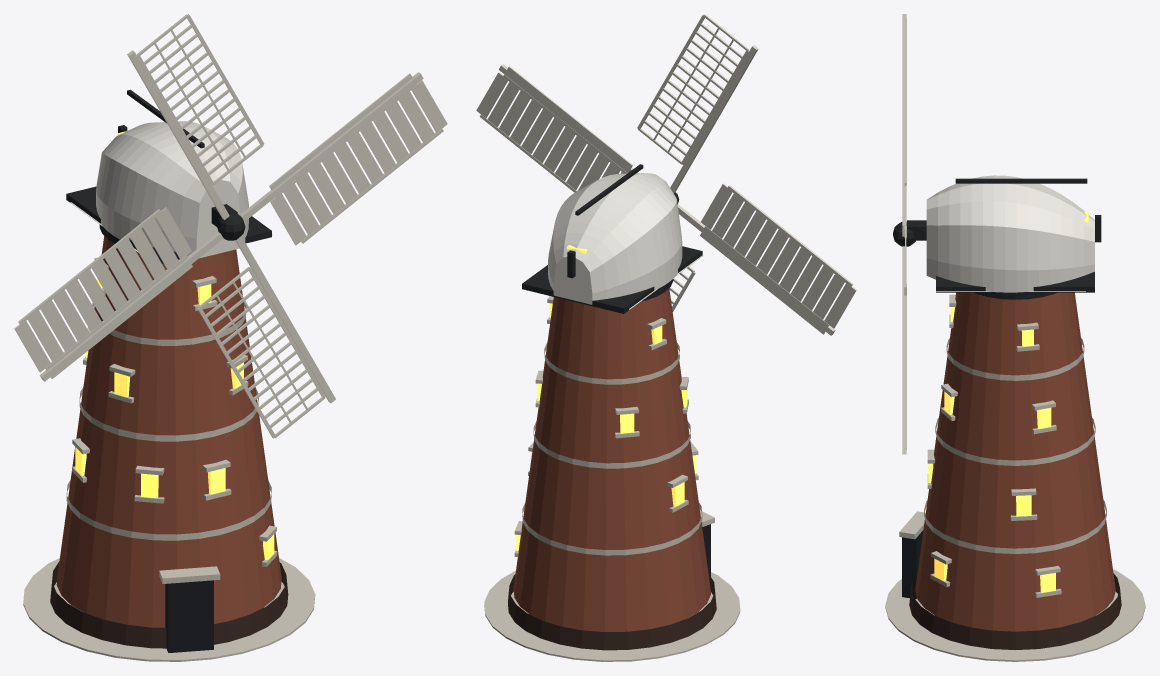
File: windmill.glb
3 views of the same model, side by side, from view 1: azimuth 30°, elevation 25°; view 2: azimuth 150°, elevation 25°; view 3: azimuth 270°, elevation 25° (orthographic). The views are drawn at different scales.
Visible parts, largest first — view 1: Brick, Timber, Stone, CapWhite, BrickDark, Door, Iron, Emit_Window; view 2: Brick, Timber, CapWhite, Stone, BrickDark, Iron, Emit_Window; view 3: Brick, CapWhite, Stone, BrickDark, Iron, Timber, Emit_Window, Door.
Boxes of the visible parts, bbox=[...] form: Brick: bbox=[56, 236, 281, 627]; Timber: bbox=[14, 14, 447, 438]; Stone: bbox=[23, 257, 315, 661]; CapWhite: bbox=[70, 121, 272, 258]; BrickDark: bbox=[50, 561, 288, 648]; Door: bbox=[165, 580, 213, 652]; Iron: bbox=[66, 89, 271, 263]; Emit_Window: bbox=[75, 131, 274, 559]; Brick: bbox=[513, 288, 710, 631]; Timber: bbox=[476, 14, 856, 335]; CapWhite: bbox=[548, 173, 703, 309]; Stone: bbox=[484, 296, 740, 661]; BrickDark: bbox=[508, 574, 716, 650]; Iron: bbox=[522, 164, 702, 313]; Emit_Window: bbox=[516, 245, 696, 550]; Brick: bbox=[915, 292, 1115, 631]; CapWhite: bbox=[926, 175, 1094, 292]; Stone: bbox=[885, 294, 1145, 661]; BrickDark: bbox=[909, 573, 1121, 649]; Iron: bbox=[893, 178, 1101, 299]; Timber: bbox=[902, 14, 906, 454]; Emit_Window: bbox=[928, 211, 1088, 592]; Door: bbox=[902, 530, 923, 599].
Bounding box in the file's own units: 14.52 × 20.57 × 8.51.
